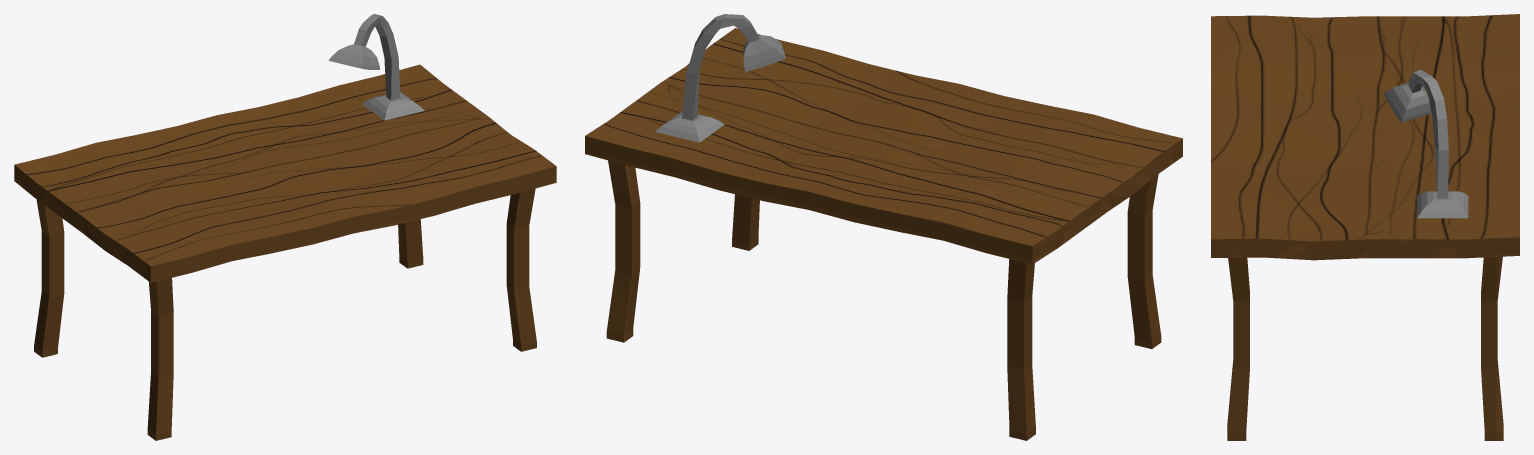
File: Bot Worktable.FBX
3 renders of one model, left to right at view 1: azimuth 30°, elevation 25°; view 2: azimuth 150°, elevation 25°; view 3: azimuth 270°, elevation 25°, orthographic. The views are drawn at different scales.
Parts seen in each view (by area): view 1: Box001; view 2: Box001; view 3: Box001.
Part boxes in pixels (x1=…): Box001: x1=14, y1=14, x2=556, y2=440; Box001: x1=585, y1=14, x2=1182, y2=440; Box001: x1=1211, y1=14, x2=1519, y2=440.
Size of the model in its own units: 0.4647 by 0.3123 by 0.2704.
1 material, 1 textured.
